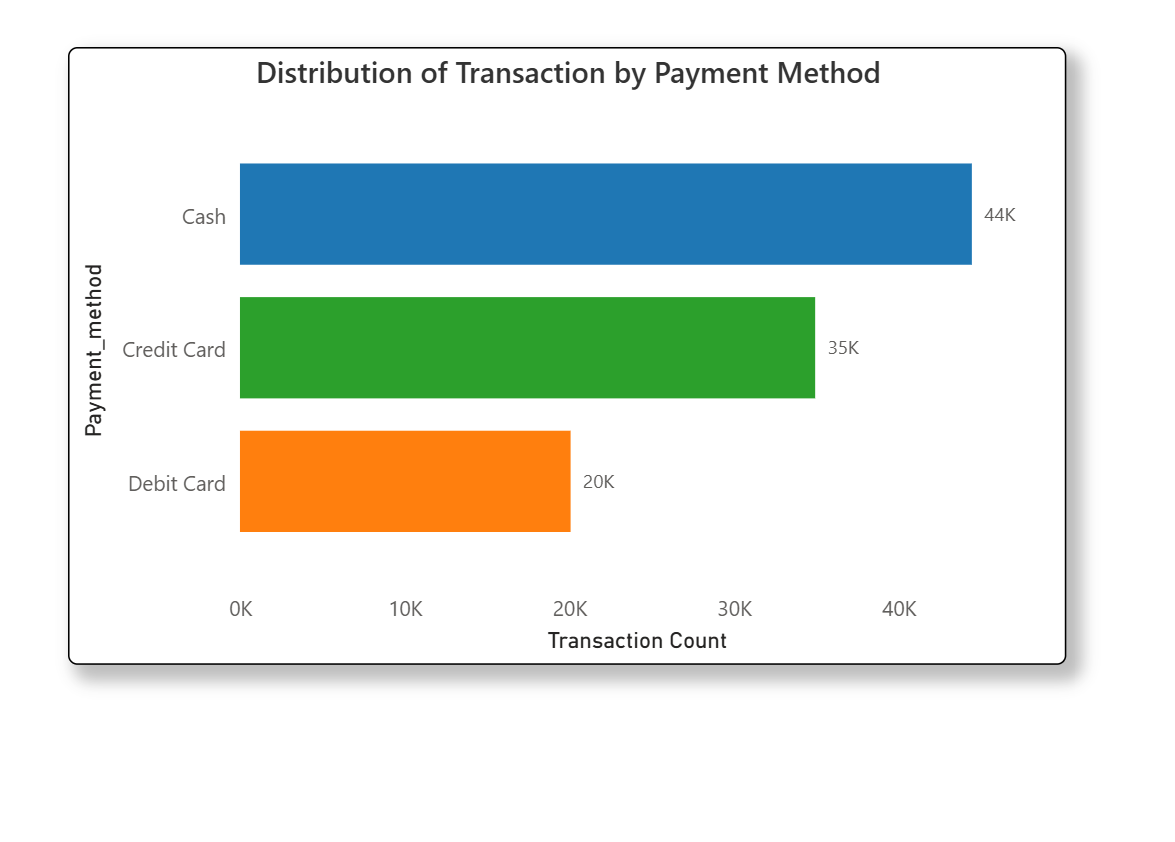

Layout of this report page (visuals, bound fields, positions):
{"tool":"powerbi","page":{"name":"Distribution of Transaction by Payment Method","canvas":[1280,720],"ordinal":9},"visuals":[{"type":"barChart","title":"Distribution of Transaction by Payment Method","fields":{"Category":["customer_data.payment_method"],"Y":["CountNonNull(customer_data.invoice_date)"]},"box":[349.6,131.1,641.3,397.1],"z":0}]}

Visuals, with their boxes on the page's 1280x720 design canvas (x1, y1, x2, y2). These are canvas units, not pixel positions in the 1175x842 screenshot, which may show the page scaled, cropped or inside an application window:
"Distribution of Transaction by Payment Method" barChart: left=350, top=131, right=991, bottom=528
